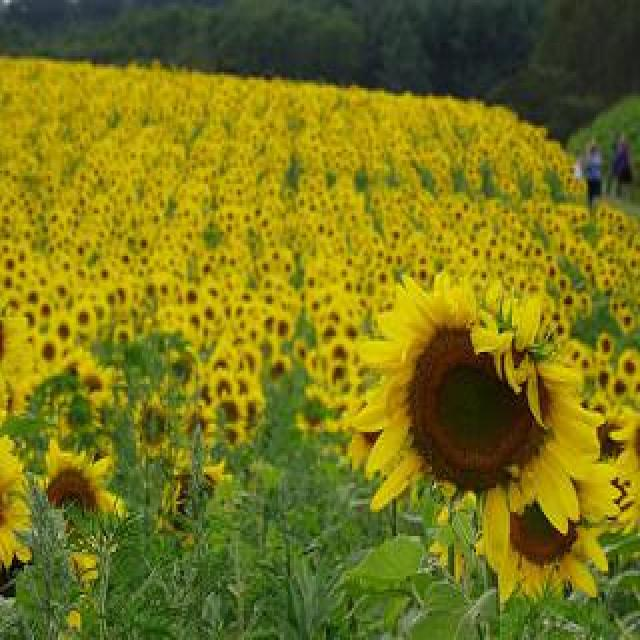sunflower: (354, 272, 598, 547), (480, 484, 606, 601), (35, 441, 125, 532), (0, 432, 38, 584), (132, 392, 176, 459), (0, 312, 30, 389), (35, 332, 63, 369), (618, 347, 640, 389), (218, 394, 246, 426), (271, 316, 293, 343)
